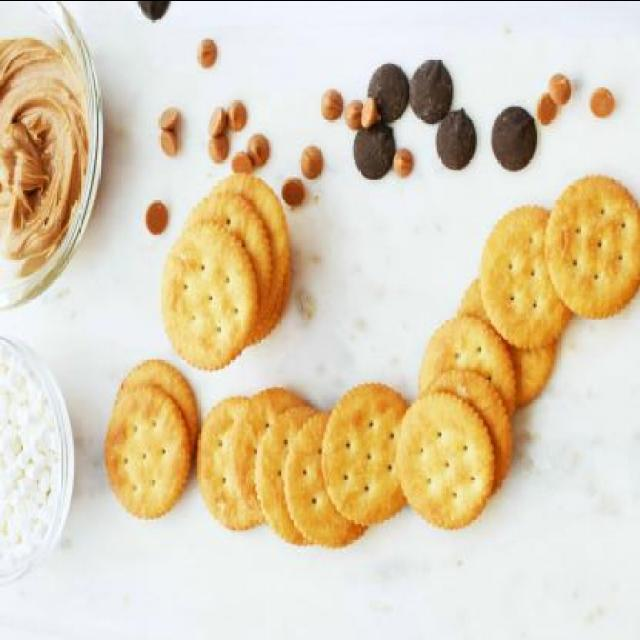Ritz cracker packaged: (111, 180, 640, 566)
